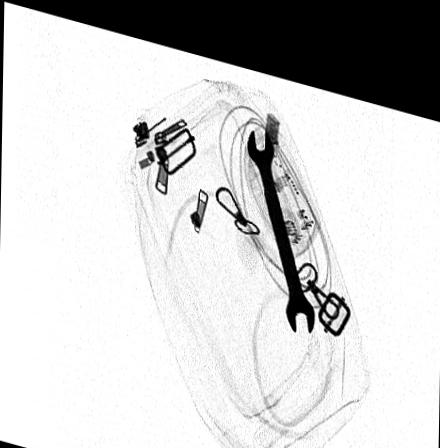Wrench: (246, 113, 313, 318)
